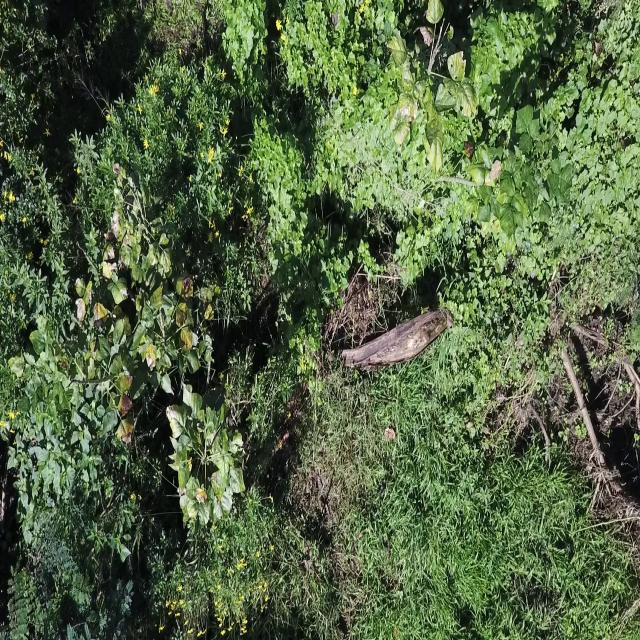Mysore-Thorn-Weed: (40, 521, 96, 616), (66, 576, 137, 640), (7, 560, 34, 640)
